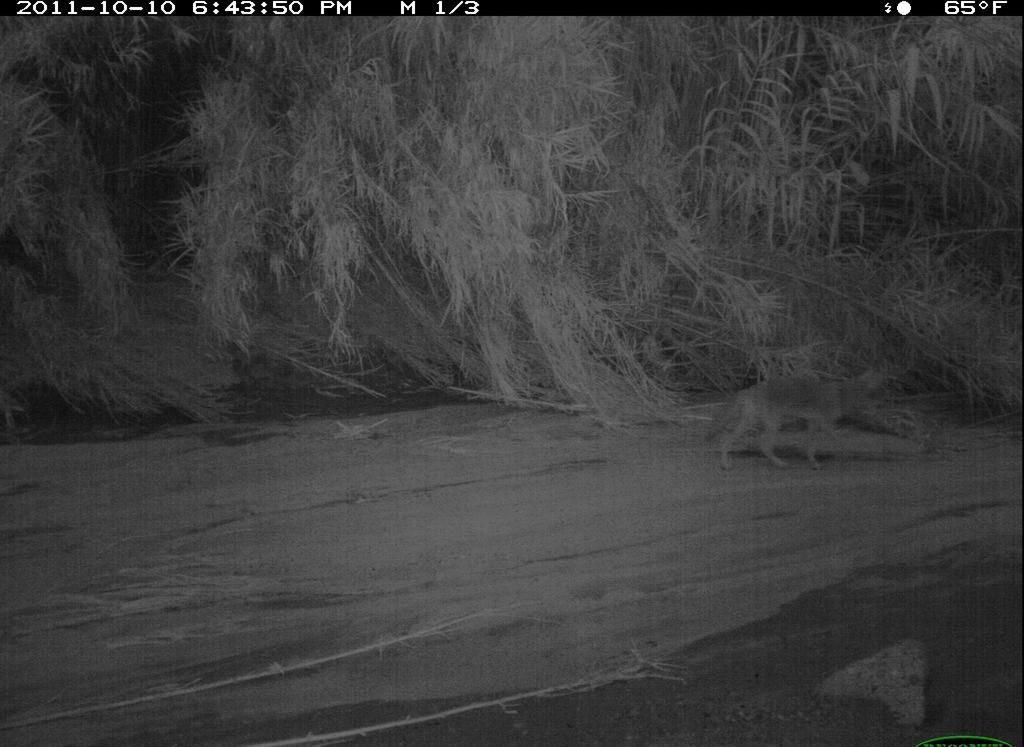coyote: (706, 365, 920, 483)
